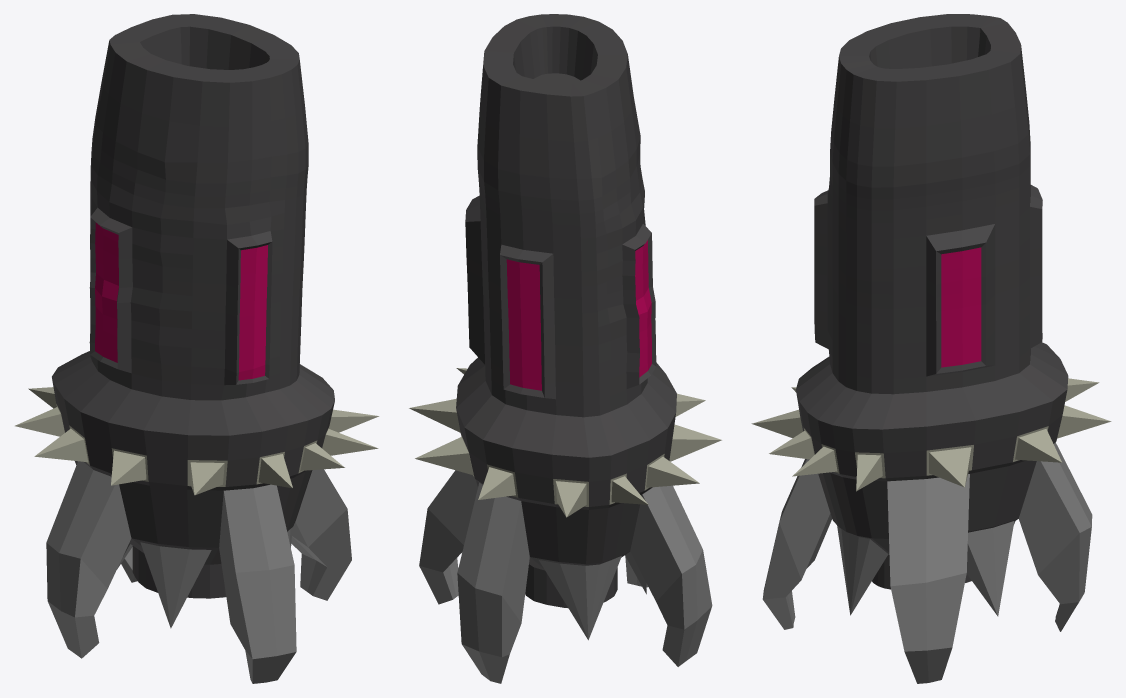
The model's file is ArmaShotgun.fbx.
3 renders of one model, left to right at view 1: azimuth 30°, elevation 25°; view 2: azimuth 150°, elevation 25°; view 3: azimuth 270°, elevation 25°, orthographic.
Visible parts, largest first — view 1: Weapon2.shotgun; view 2: Weapon2.shotgun; view 3: Weapon2.shotgun.
Part boxes in pixels (x1,y1,x2,y2): Weapon2.shotgun: (15, 14, 379, 683); Weapon2.shotgun: (409, 14, 721, 683); Weapon2.shotgun: (751, 14, 1111, 683).
Size of the model in its own units: 64.23 by 121 by 67.43.
